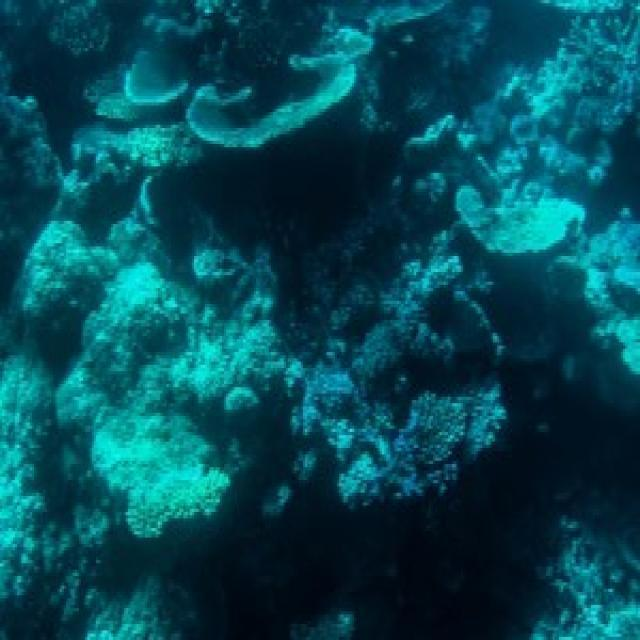Bleached: (60, 255, 302, 572)
Healthy: (177, 43, 370, 160)
